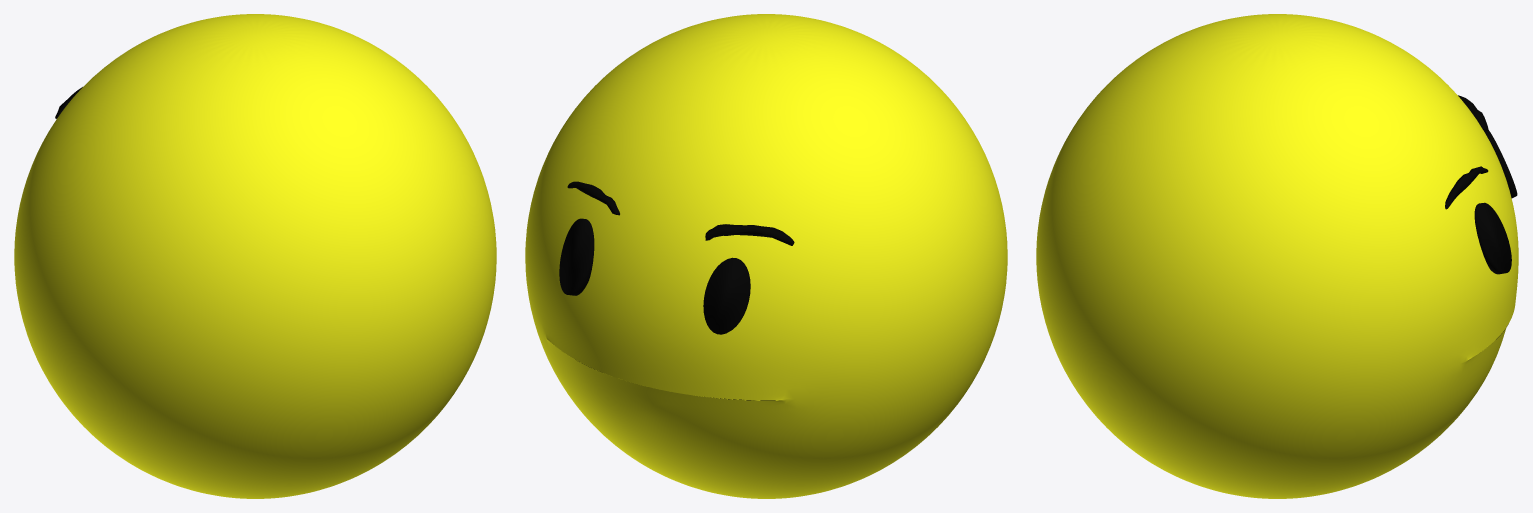
File: [1] original.obj
The picture shows the model from 3 angles, left to right: view 1: azimuth 30°, elevation 25°; view 2: azimuth 150°, elevation 25°; view 3: azimuth 270°, elevation 25°; orthographic projection.
Visible parts, largest first — view 1: head_Sphere.002; view 2: head_Sphere.002, rightEye_Cylinder.001, leftEye_Cylinder.002, rightEyebrow_Cylinder.005, leftEyebrow_Cylinder.003; view 3: head_Sphere.002, leftEye_Cylinder.002, leftEyebrow_Cylinder.003.
Part boxes in pixels (left/top/right/bottom): head_Sphere.002: left=14, top=14, right=496, bottom=498; head_Sphere.002: left=525, top=14, right=1007, bottom=498; rightEye_Cylinder.001: left=703, top=257, right=750, bottom=334; leftEye_Cylinder.002: left=559, top=218, right=594, bottom=295; rightEyebrow_Cylinder.005: left=705, top=224, right=794, bottom=245; leftEyebrow_Cylinder.003: left=567, top=181, right=619, bottom=215; head_Sphere.002: left=1036, top=14, right=1518, bottom=498; leftEye_Cylinder.002: left=1474, top=202, right=1511, bottom=274; leftEyebrow_Cylinder.003: left=1445, top=166, right=1488, bottom=209.
Bounding box in the file's own units: 3.65 × 3.69 × 3.65.
